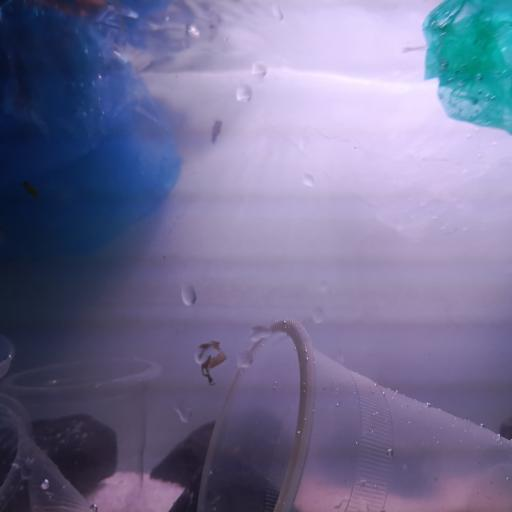plastic_bag: (1, 0, 180, 259), (422, 0, 512, 139)
plastic_cup: (195, 317, 512, 512), (1, 357, 163, 512), (1, 392, 97, 512), (0, 335, 15, 379)
